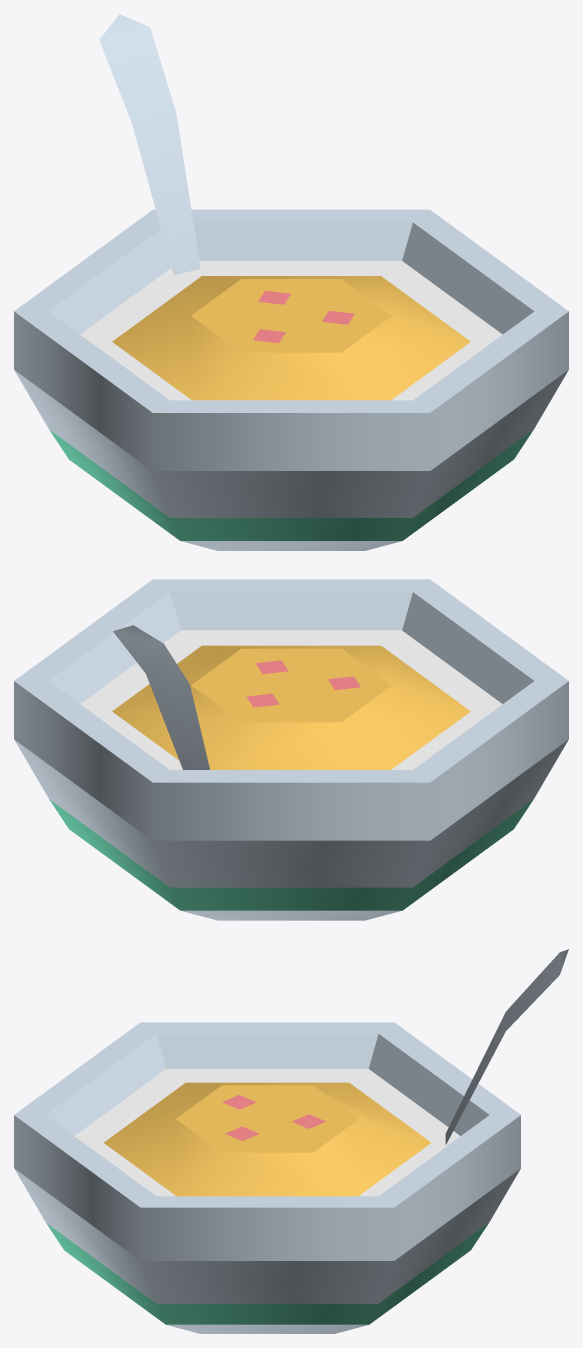
Rendered from bowlCereal.dae.
3 renders of one model, top to bottom at view 1: azimuth 30°, elevation 25°; view 2: azimuth 150°, elevation 25°; view 3: azimuth 270°, elevation 25°, orthographic. The views are drawn at different scales.
Parts seen in each view (by area): view 1: bowlCereal; view 2: bowlCereal; view 3: bowlCereal.
Part boxes in pixels (x1,y1,x2,y2): bowlCereal: (14, 14, 568, 550); bowlCereal: (14, 579, 568, 920); bowlCereal: (14, 949, 568, 1333).
Bounding box in the file's own units: 0.5022 × 0.4193 × 0.6346.
